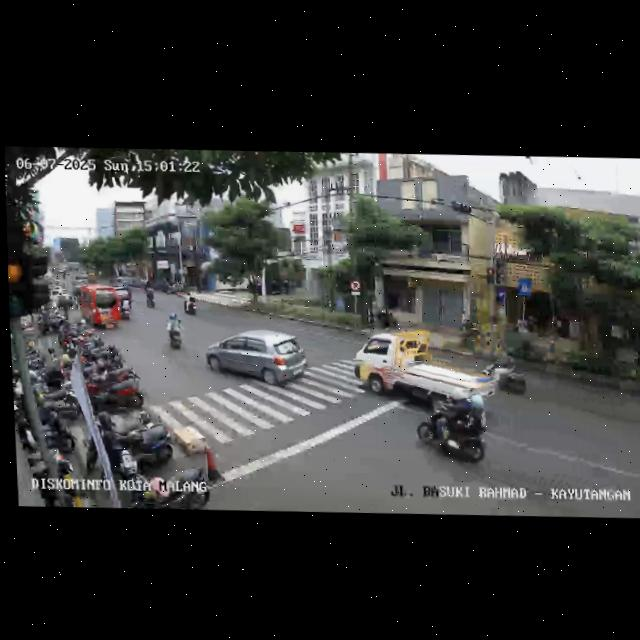car: (352, 328, 494, 414), (202, 327, 306, 392), (75, 282, 122, 330)
motorcycle: (420, 388, 490, 469), (480, 351, 528, 402), (162, 311, 185, 352), (183, 290, 198, 316), (119, 293, 132, 319), (144, 285, 156, 308)
